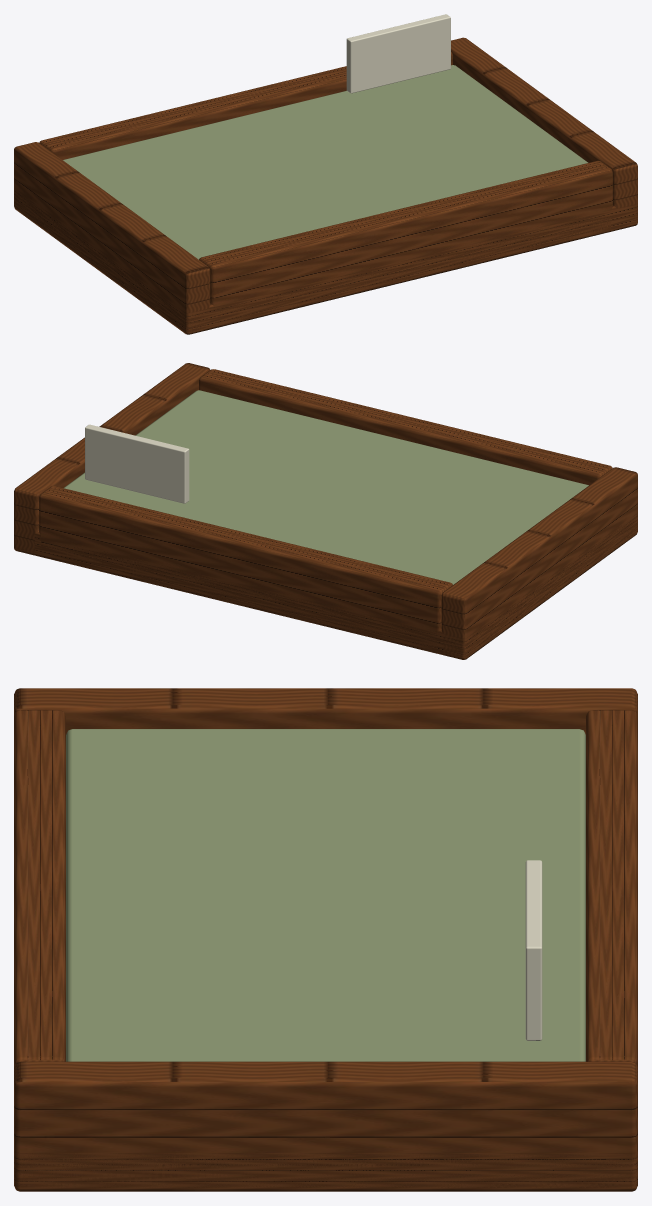
File: prehistoric-expedition-sites-specimen-tray-4e4da69d__26137.glb
The picture shows the model from 3 angles, top to bottom: view 1: azimuth 30°, elevation 25°; view 2: azimuth 150°, elevation 25°; view 3: azimuth 270°, elevation 25°; orthographic projection. The views are drawn at different scales.
Visible parts, largest first — view 1: specimen-tray; view 2: specimen-tray; view 3: specimen-tray.
Part boxes in pixels (x1,y1,x2,y2): specimen-tray: (14, 14, 637, 334); specimen-tray: (14, 363, 637, 659); specimen-tray: (14, 688, 637, 1191).
Bounding box in the file's own units: 0.45 × 0.11 × 0.3.
Materials: 3 (1 with a texture image).
